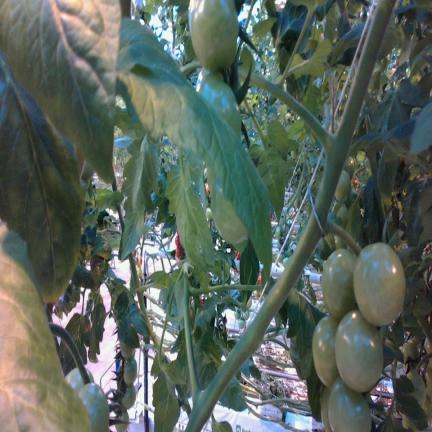6kp_peduncle: (296, 177, 362, 271)
6kp_petiole: (296, 96, 362, 209), (185, 339, 230, 432)
MainStem: (185, 1, 396, 432), (129, 254, 160, 346)
tomato: (199, 72, 241, 192), (354, 242, 405, 326), (335, 310, 383, 392), (189, 0, 239, 71), (322, 249, 356, 320), (210, 179, 247, 244), (328, 377, 370, 431), (312, 315, 338, 386), (79, 383, 109, 431), (65, 368, 94, 392), (320, 386, 332, 431), (335, 170, 351, 200), (124, 356, 137, 386), (122, 385, 136, 409), (115, 410, 129, 431), (116, 365, 126, 393), (119, 341, 135, 358), (337, 204, 348, 227), (344, 156, 355, 178), (112, 391, 123, 413), (334, 235, 346, 249), (206, 207, 212, 219), (136, 266, 141, 278), (285, 113, 292, 121)
